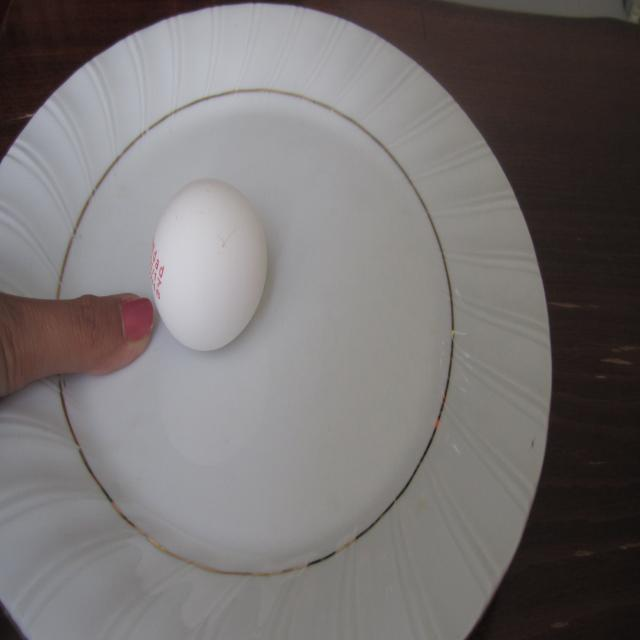egg: (146, 173, 270, 360)
